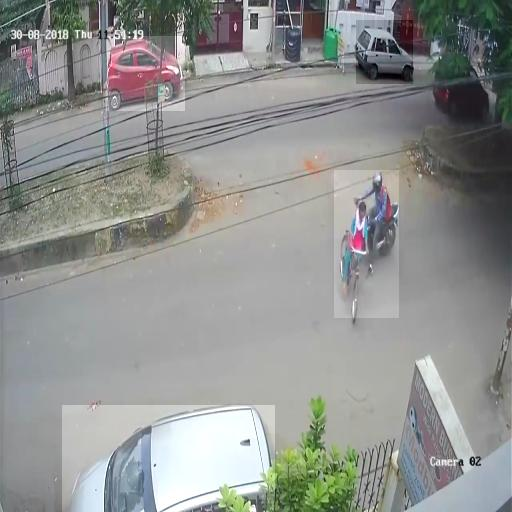小汽车: (62, 405, 275, 512), (106, 36, 185, 111), (356, 20, 413, 84)
自行车撞自行车: (334, 170, 399, 318)
